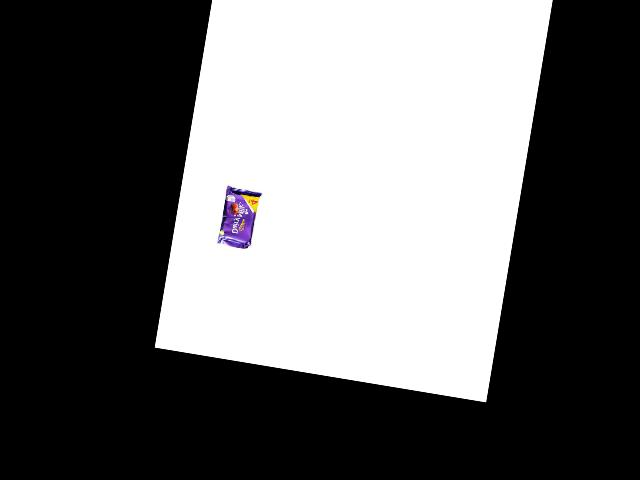chocolate: (212, 178, 262, 252)
